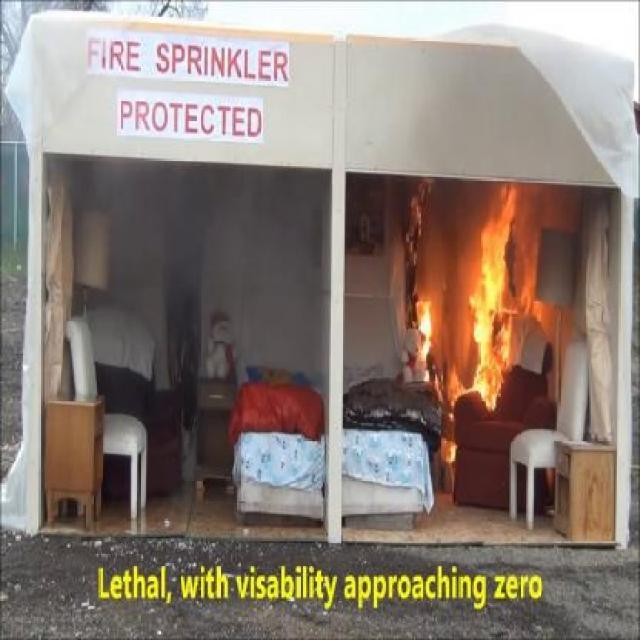fire: (413, 190, 522, 406)
smoke: (91, 174, 264, 373)
